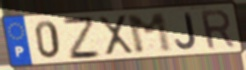0: (33, 19, 62, 61)
J: (173, 11, 198, 51)
M: (125, 11, 175, 56)
R: (198, 7, 238, 51)
X: (96, 13, 137, 58)
Z: (61, 17, 104, 62)
